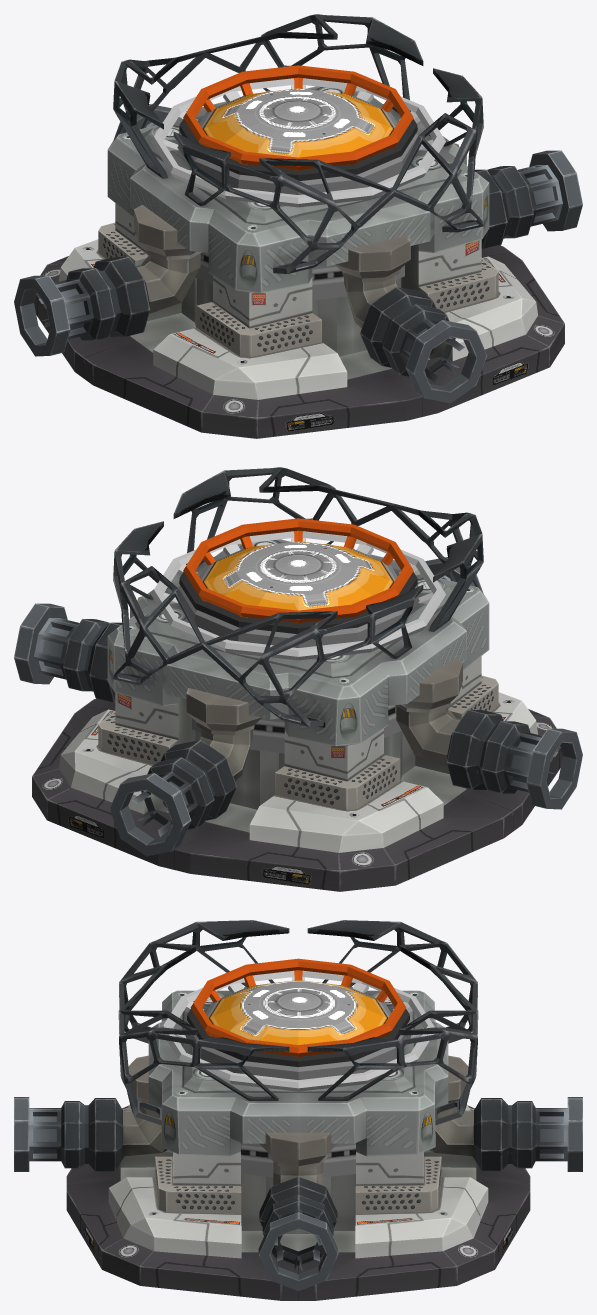
Rendered from gas-tank.glb.
The picture shows the model from 3 angles, top to bottom: view 1: azimuth 30°, elevation 25°; view 2: azimuth 150°, elevation 25°; view 3: azimuth 270°, elevation 25°; orthographic projection. The views are drawn at different scales.
Parts seen in each view (by area): view 1: zhuti.001, zhuti.004, zhuti.002, zhuti.003; view 2: zhuti.001, zhuti.004, zhuti.002, zhuti.003; view 3: zhuti.001, zhuti.004, zhuti.002, zhuti.003.
Part boxes in pixels (x1,y1,x2,y2): zhuti.001: [14, 14, 582, 438]; zhuti.004: [183, 65, 413, 170]; zhuti.002: [151, 78, 445, 300]; zhuti.003: [179, 118, 417, 180]; zhuti.001: [14, 467, 582, 891]; zhuti.004: [183, 518, 413, 623]; zhuti.002: [151, 531, 445, 753]; zhuti.003: [179, 571, 417, 633]; zhuti.001: [14, 920, 582, 1300]; zhuti.004: [190, 958, 406, 1057]; zhuti.002: [162, 970, 434, 1177]; zhuti.003: [187, 1009, 409, 1067].
Size of the model in its own units: 30 by 12.92 by 30.
Materials: 1 (1 with a texture image).
